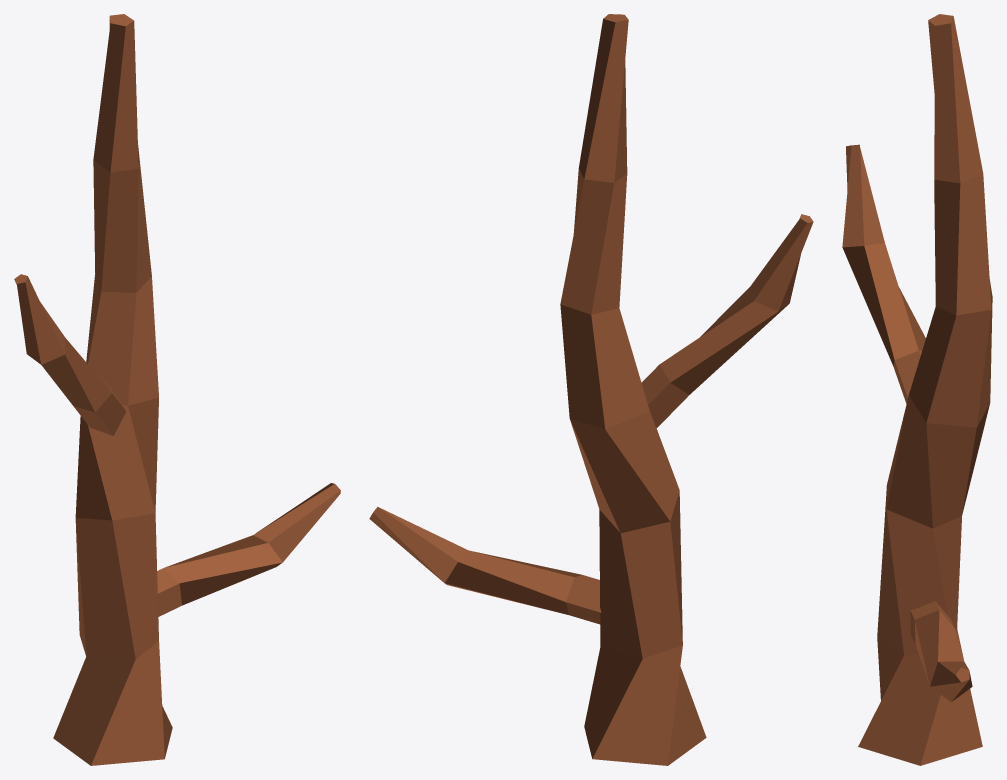
Rendered from tree.FBX.
3 renders of one model, left to right at view 1: azimuth 30°, elevation 25°; view 2: azimuth 150°, elevation 25°; view 3: azimuth 270°, elevation 25°, orthographic. The views are drawn at different scales.
Visible parts, largest first — view 1: Cylinder001; view 2: Cylinder001; view 3: Cylinder001.
Boxes of the visible parts, x1,y1,x2,y2 form: Cylinder001: [14, 14, 340, 765]; Cylinder001: [369, 14, 813, 765]; Cylinder001: [842, 14, 992, 765].
Bounding box in the file's own units: 120 × 216 × 40.41.
